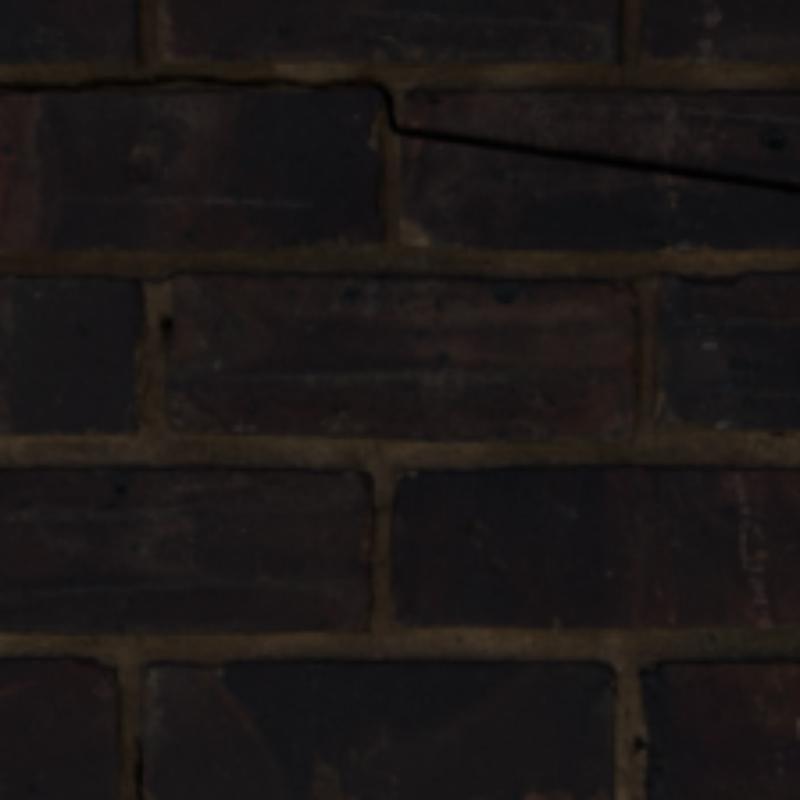pothole: (0, 71, 796, 189)
